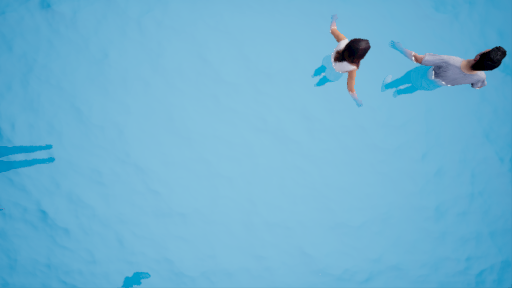person: (389, 45, 502, 99), (307, 17, 371, 104)
